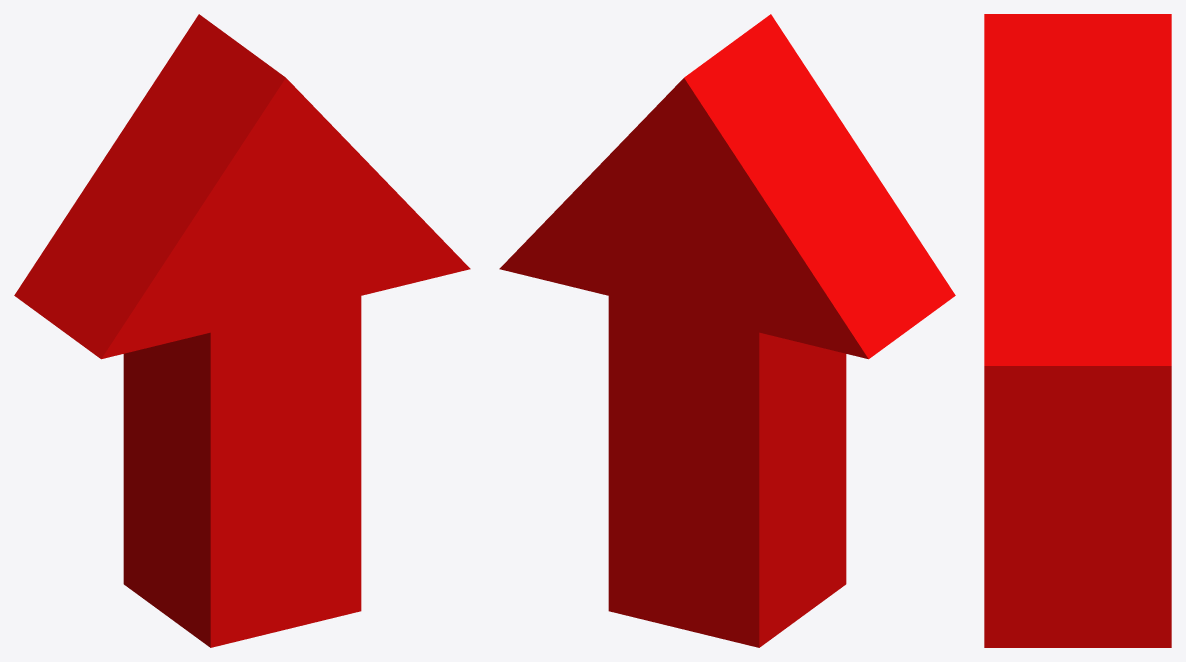
The model's file is arrow.obj.
The picture shows the model from 3 angles, left to right: view 1: azimuth 30°, elevation 25°; view 2: azimuth 150°, elevation 25°; view 3: azimuth 270°, elevation 25°; orthographic projection. The views are drawn at different scales.
Visible parts, largest first — view 1: Cube_Cube.001; view 2: Cube_Cube.001; view 3: Cube_Cube.001.
Part boxes in pixels (x1,y1,x2,y2): Cube_Cube.001: [14, 14, 470, 647]; Cube_Cube.001: [499, 14, 955, 647]; Cube_Cube.001: [984, 14, 1171, 647].
Bounding box in the file's own units: 4.91 × 7 × 2.
Materials: 1 (1 with a texture image).
